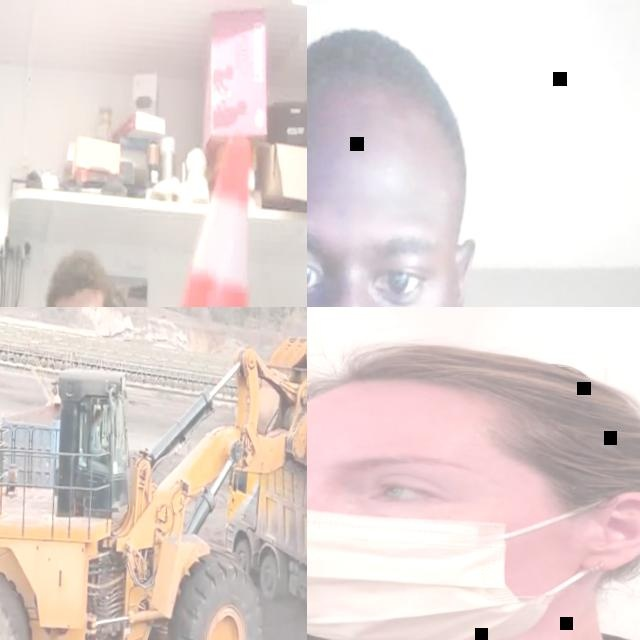Mask: (307, 470, 607, 640)
NO-Hardhat: (307, 331, 640, 460), (307, 19, 480, 176), (45, 249, 110, 305), (91, 406, 100, 418)
NO-Mask: (95, 419, 101, 426)
NO-Safety Vest: (89, 424, 100, 448)
Person: (307, 318, 640, 640), (307, 7, 640, 307), (0, 243, 282, 307), (87, 405, 110, 461)
Safety Cone: (152, 123, 282, 307)
machinery: (0, 307, 307, 640), (212, 413, 307, 640), (0, 370, 120, 500)
